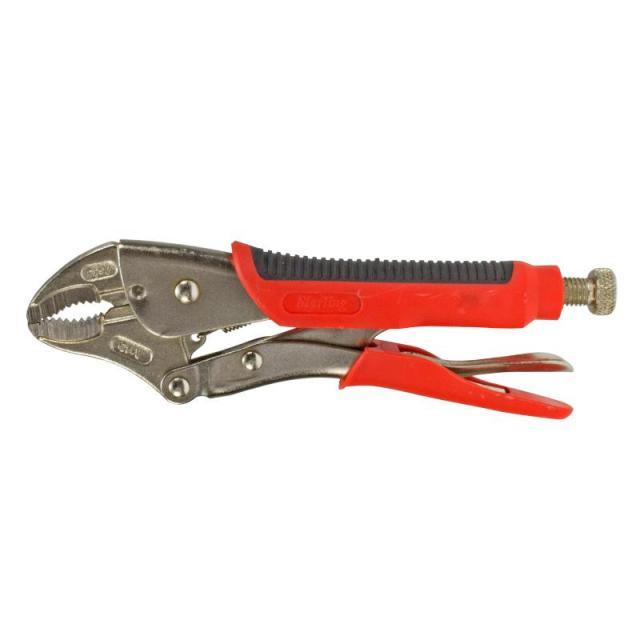pliers: (22, 229, 620, 427)
